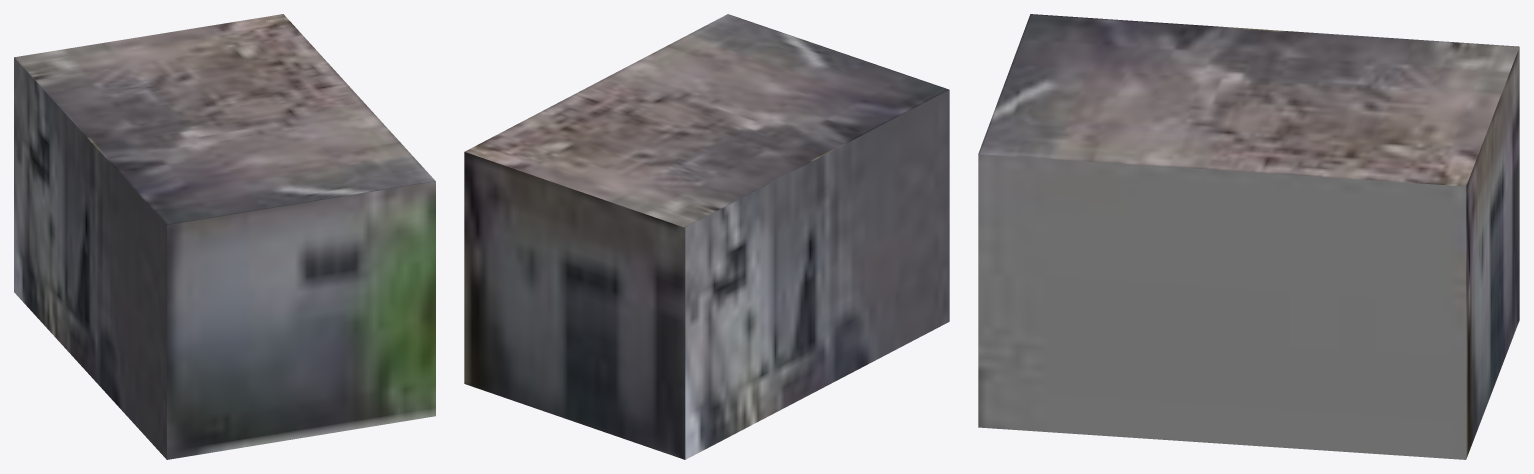
3 renders of one model, left to right at view 1: azimuth 30°, elevation 25°; view 2: azimuth 150°, elevation 25°; view 3: azimuth 270°, elevation 25°, orthographic. The views are drawn at different scales.
Visible parts, largest first — view 1: B281704040301062A0; view 2: B281704040301062A0; view 3: B281704040301062A0.
Part boxes in pixels (x1=…): B281704040301062A0: x1=14, y1=14, x2=435, y2=459; B281704040301062A0: x1=464, y1=14, x2=949, y2=459; B281704040301062A0: x1=978, y1=14, x2=1519, y2=459.
Size of the model in its own units: 3.33 by 2.46 by 4.42.
1 material, 1 textured.
